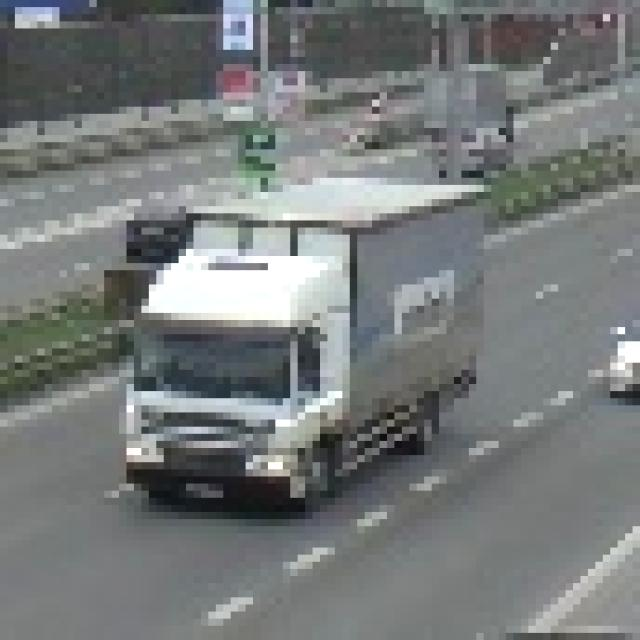truck: (113, 165, 485, 513)
